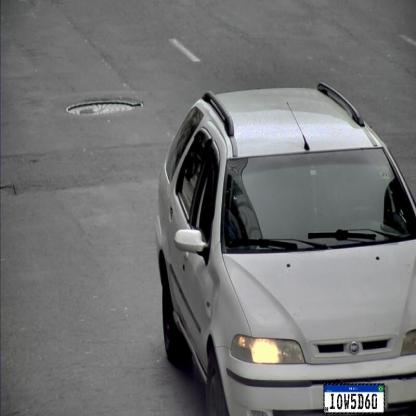PlacaM: (323, 383, 385, 414)
